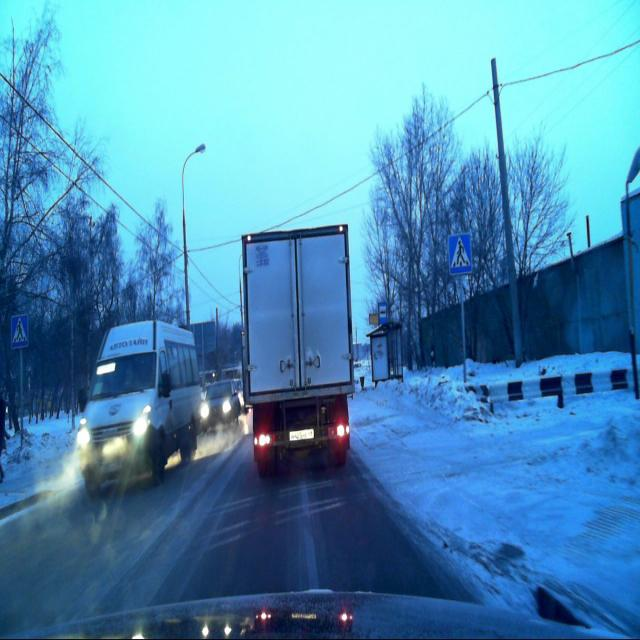object: (461, 279, 468, 385)
road sign: (448, 233, 472, 275), (9, 311, 30, 348), (377, 301, 388, 325)
